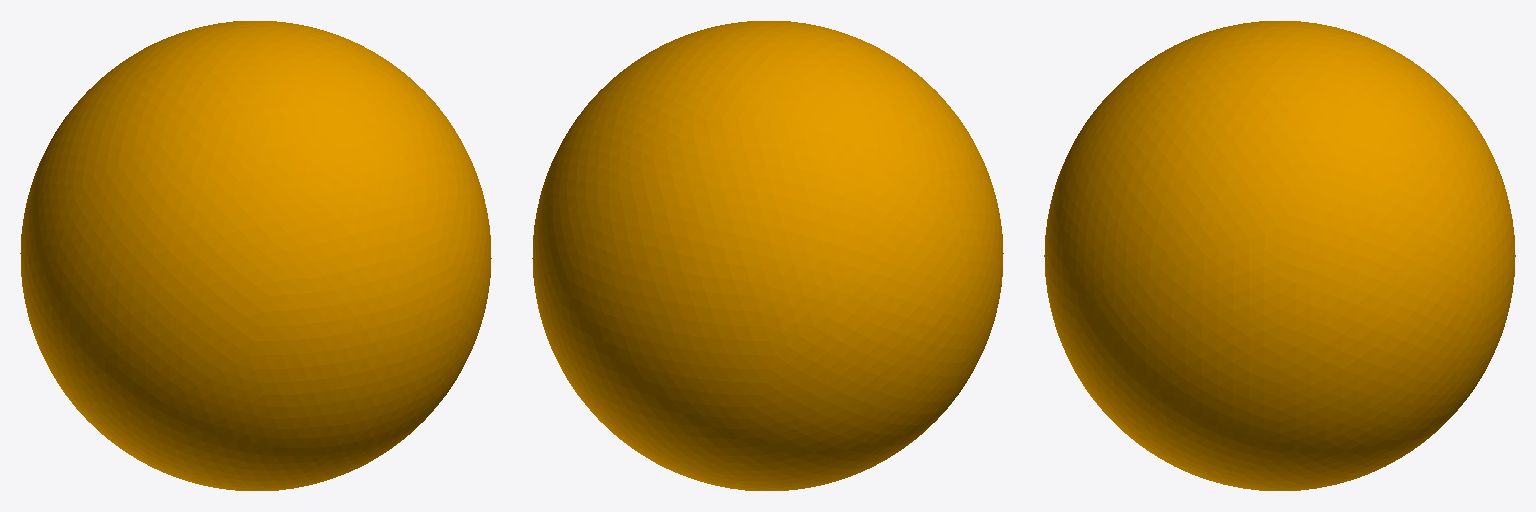
robot.urdf — ball:
<?xml version="1.0"?>
<robot name="ball">
  <link name="ball">
    <visual><geometry><mesh filename="ball_r8mm.obj"/></geometry></visual>
    <collision><geometry><mesh filename="ball_r8mm.obj"/></geometry><sdf resolution="128"/></collision>
  </link>
</robot>

--- Render facts (derived) ---
The picture shows the robot from 3 angles, left to right: view 1: azimuth 30°, elevation 25°; view 2: azimuth 150°, elevation 25°; view 3: azimuth 270°, elevation 25°; orthographic projection.
Robot: ball — 1 links, 0 joints (none); root link ball; default pose: all joints at 0.
Links seen in each view (by area): view 1: ball; view 2: ball; view 3: ball.
Link boxes in pixels (<box>): ball: <box>20,21,491,490</box>; ball: <box>532,21,1003,490</box>; ball: <box>1044,21,1515,490</box>.
Size in the robot's own frame: 0.016 by 0.016 by 0.016 metres.
Meshes: 1 distinct files referenced, 1 mesh visuals loaded (1 OBJ).
